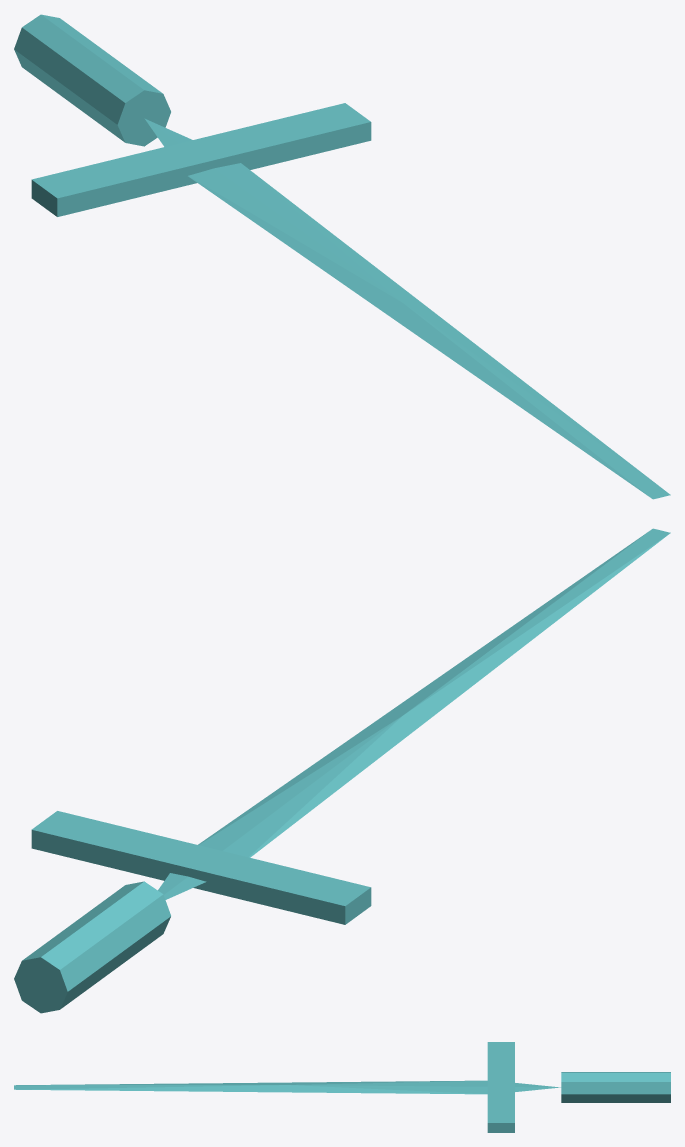
The picture shows the model from 3 angles, top to bottom: view 1: azimuth 30°, elevation 25°; view 2: azimuth 150°, elevation 25°; view 3: azimuth 270°, elevation 25°; orthographic projection. The views are drawn at different scales.
Parts seen in each view (by area): view 1: geometry_0; view 2: geometry_0; view 3: geometry_0.
Boxes of the visible parts, x1,y1,x2,y2 form: geometry_0: (14, 14, 670, 499); geometry_0: (14, 528, 670, 1013); geometry_0: (14, 1042, 670, 1132).
Size of the model in its own units: 0.7 by 0.12 by 2.4.
